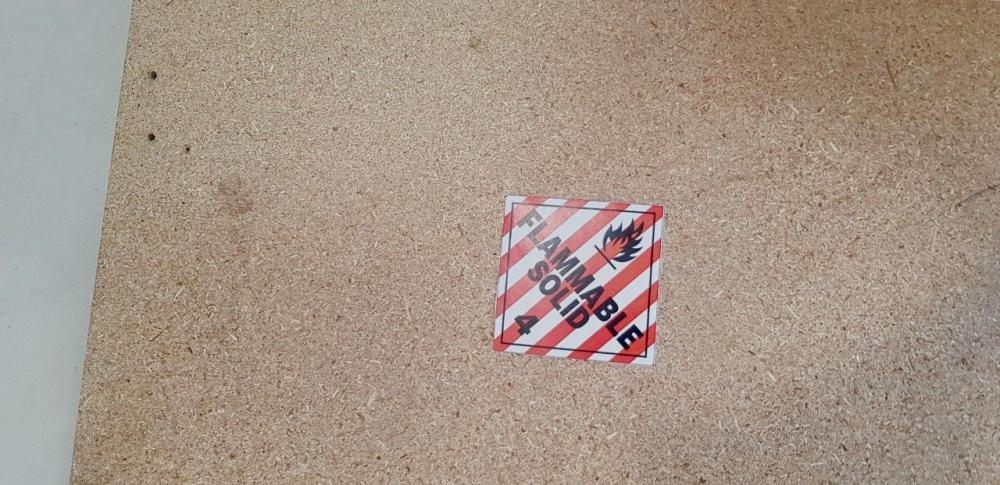flammable-solid: (491, 191, 667, 367)
